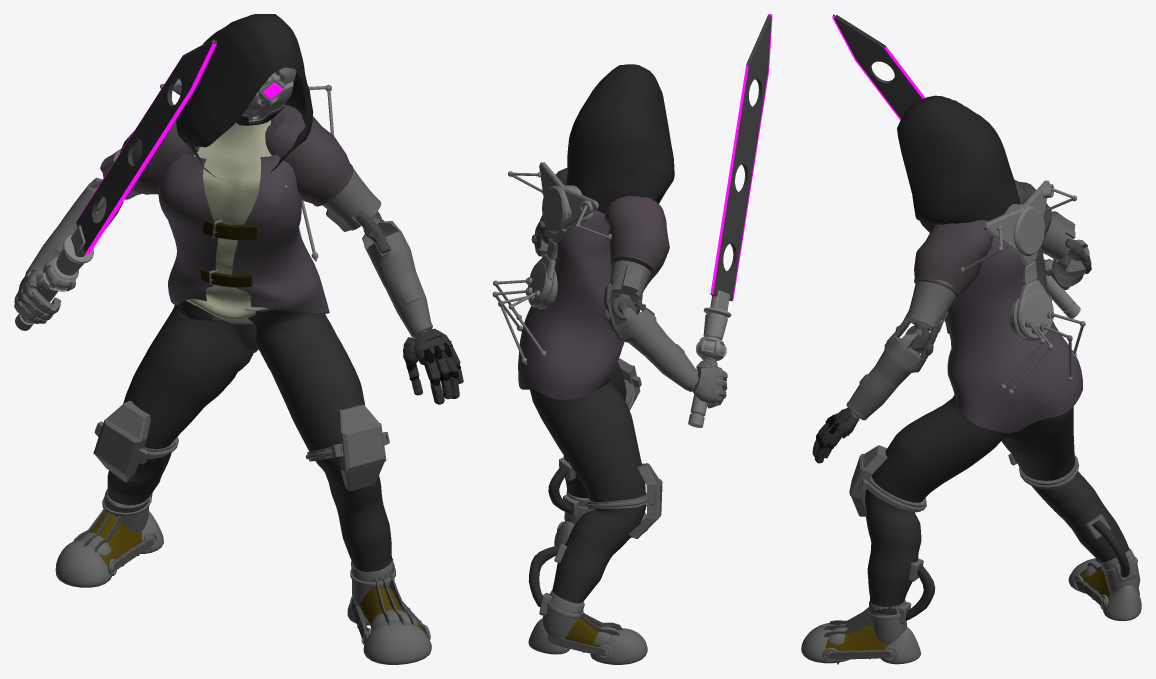
The model's file is Assasin.glb.
The picture shows the model from 3 angles, left to right: view 1: azimuth 30°, elevation 25°; view 2: azimuth 150°, elevation 25°; view 3: azimuth 270°, elevation 25°; orthographic projection. The views are drawn at different scales.
Parts seen in each view (by area): view 1: polySurface860; view 2: polySurface860; view 3: polySurface860.
Part boxes in pixels (x1=…): polySurface860: x1=14, y1=14, x2=463, y2=664; polySurface860: x1=492, y1=14, x2=772, y2=664; polySurface860: x1=801, y1=14, x2=1141, y2=664.
Size of the model in its own units: 92.41 by 185 by 100.
